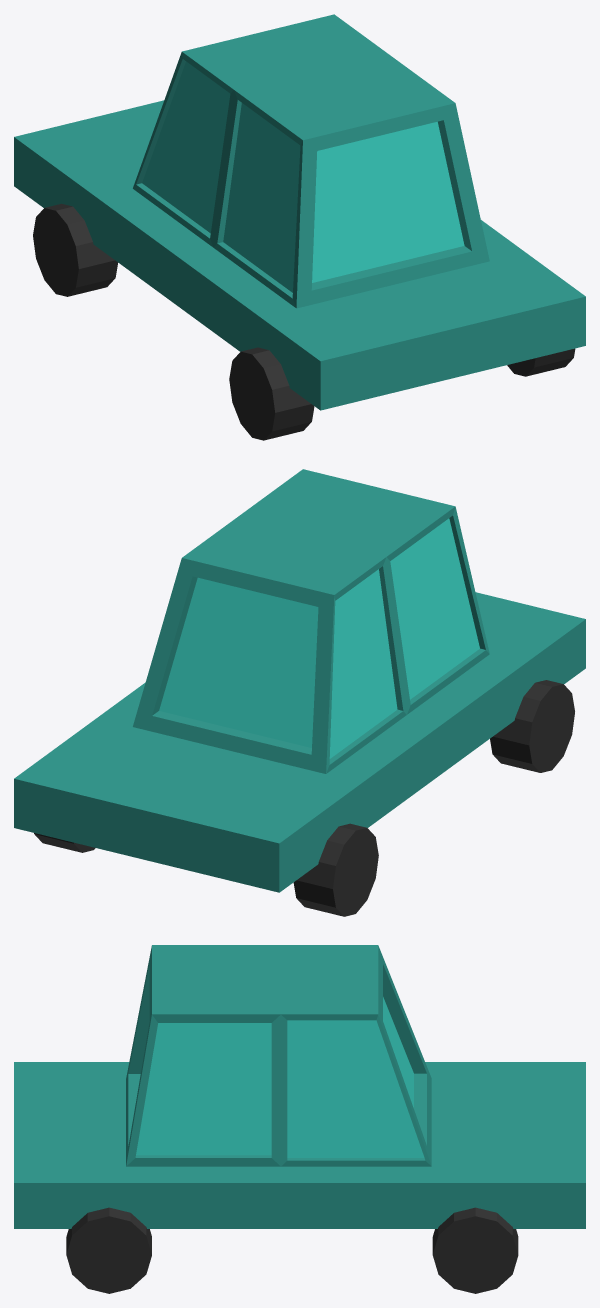
The model's file is Car_Model 2.fbx.
3 renders of one model, top to bottom at view 1: azimuth 30°, elevation 25°; view 2: azimuth 150°, elevation 25°; view 3: azimuth 270°, elevation 25°, orthographic. The views are drawn at different scales.
Parts seen in each view (by area): view 1: pCylinder10; view 2: pCylinder10; view 3: pCylinder10.
Part boxes in pixels (x1=…): pCylinder10: x1=14, y1=14, x2=585, y2=440; pCylinder10: x1=14, y1=469, x2=585, y2=916; pCylinder10: x1=14, y1=945, x2=585, y2=1293.
Size of the model in its own units: 2.27 by 1.89 by 4.
